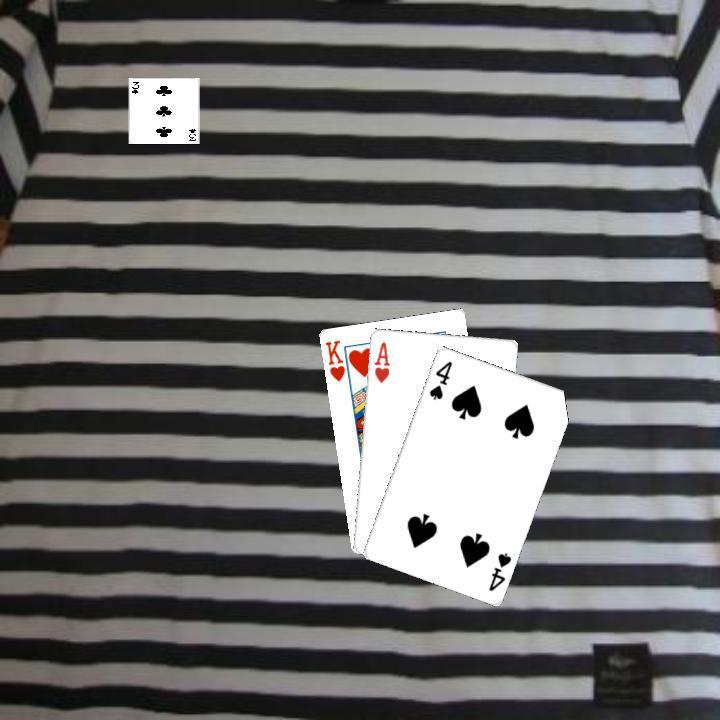4: (424, 356, 454, 401), (484, 548, 513, 593)
A: (369, 337, 392, 384)
K: (320, 336, 347, 383)
